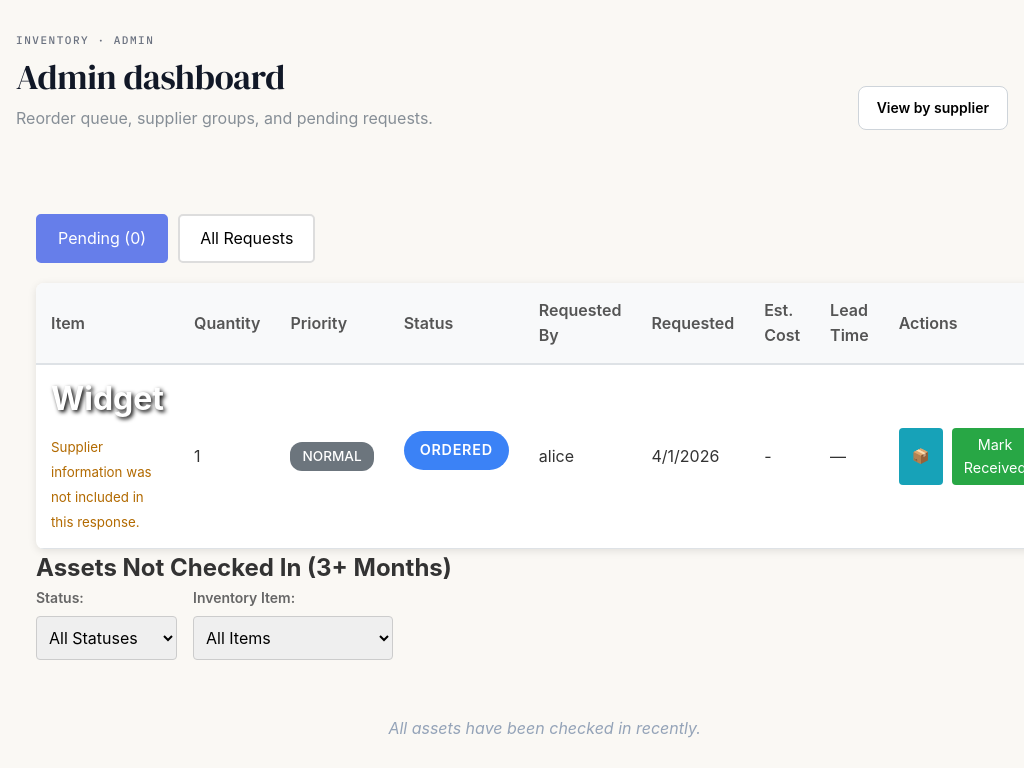
it: AdminDashboard — update tracking flow › opens a multi-field modal and posts the consolidated tracking fields
Click the button titled "Update Tracking". click: (921, 457)
box: left=899, top=428, right=943, bottom=485
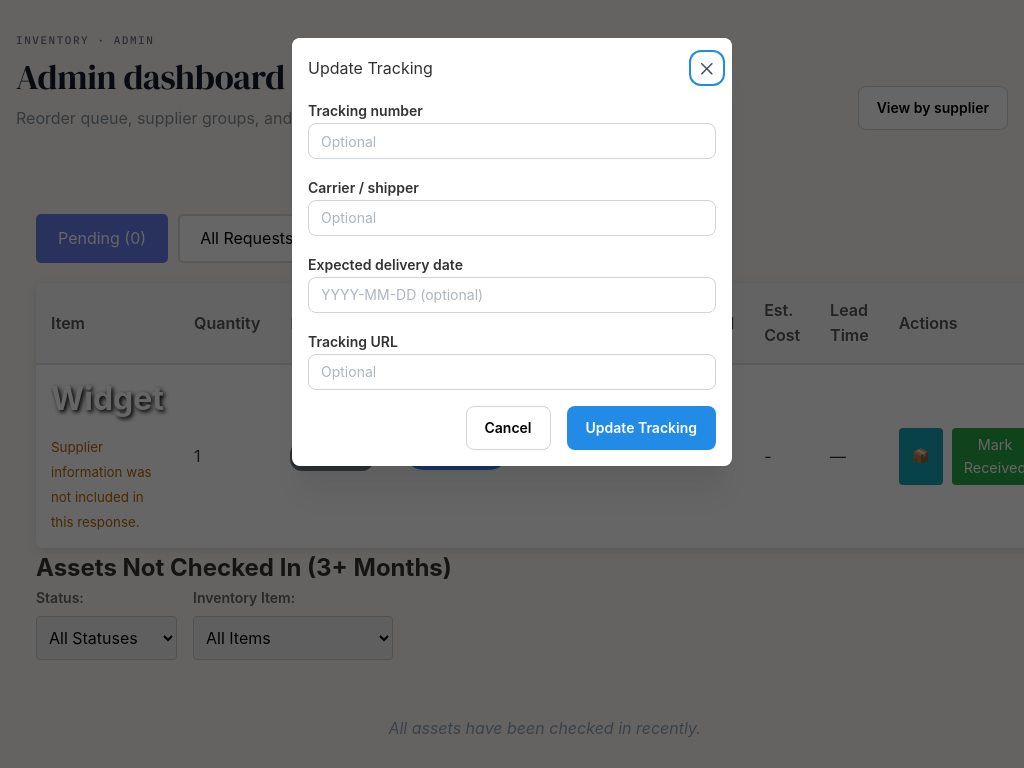
Type "TRK-1" into the field labelled "Tracking number". click: (512, 141)
box: left=308, top=123, right=716, bottom=159
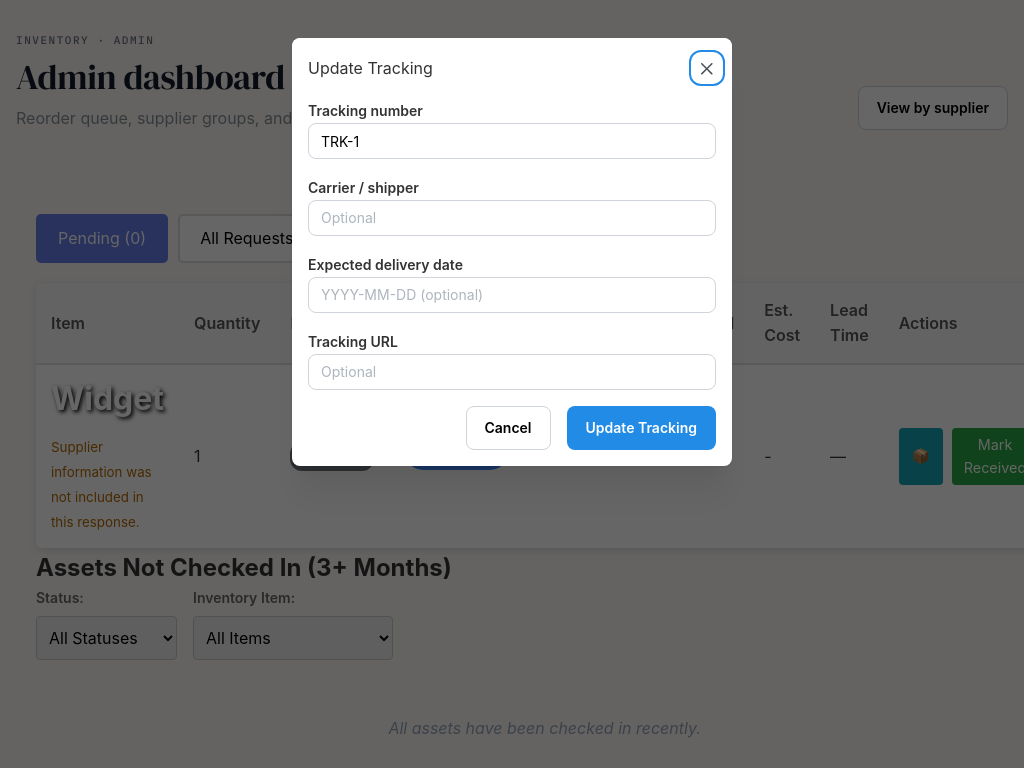
Type "UPS" into the field labelled "Carrier / shipper". click: (512, 218)
box: left=308, top=200, right=716, bottom=236
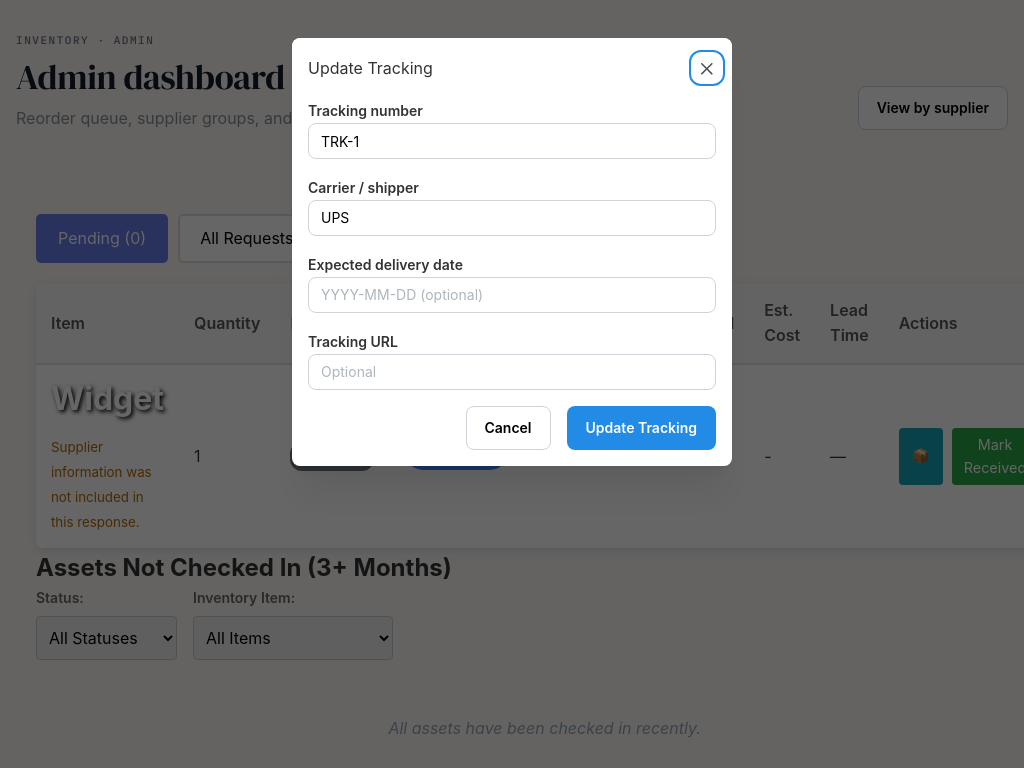
Type "2026-05-10" into the field labelled "Expected delivery date". click: (512, 295)
box: left=308, top=277, right=716, bottom=313
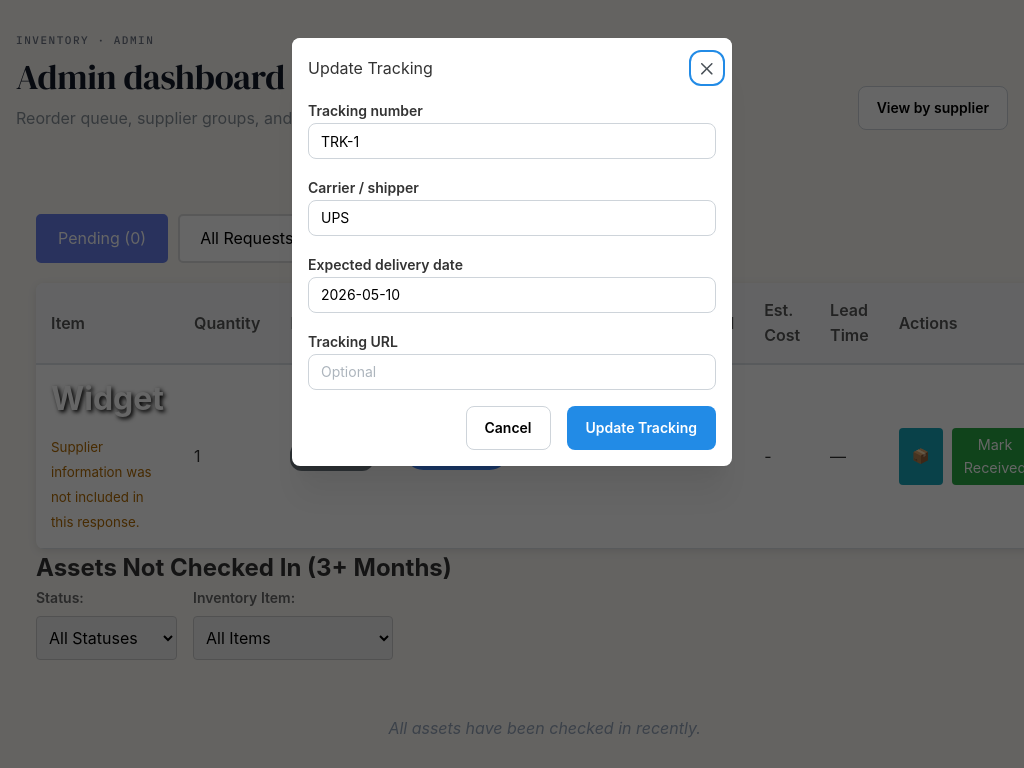
Type "https://ups.example/TRK-1" into the field labelled "Tracking URL". click: (512, 372)
box: left=308, top=354, right=716, bottom=390
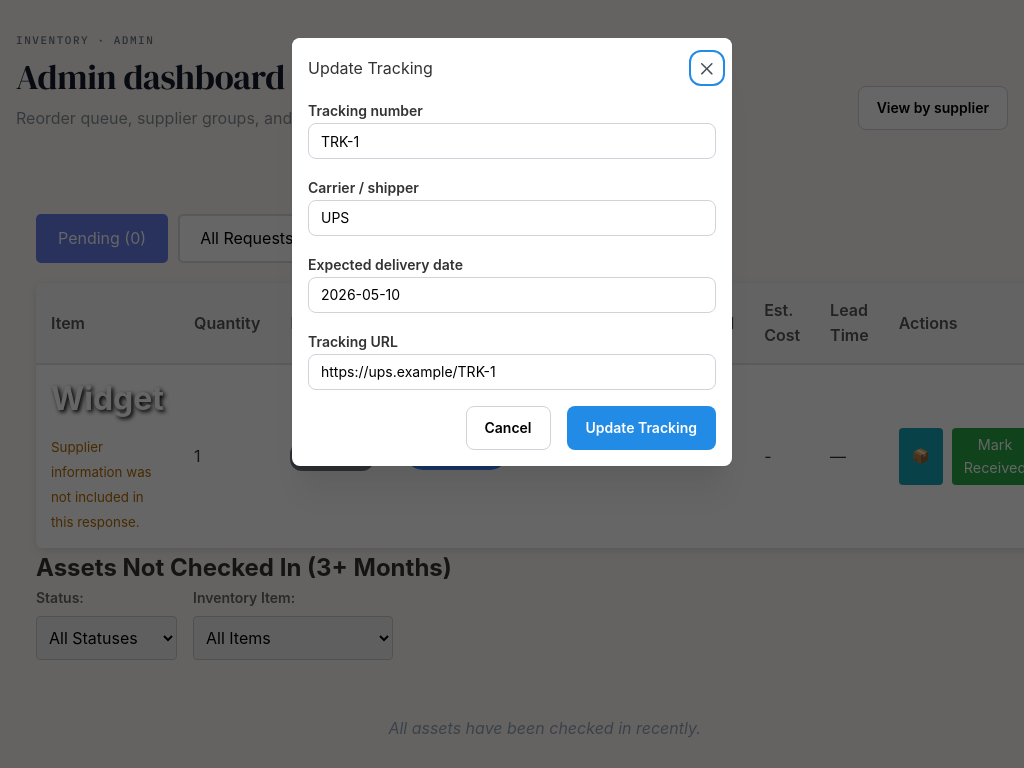
Click the button "Update Tracking". click: (641, 428)
box: left=566, top=406, right=716, bottom=450
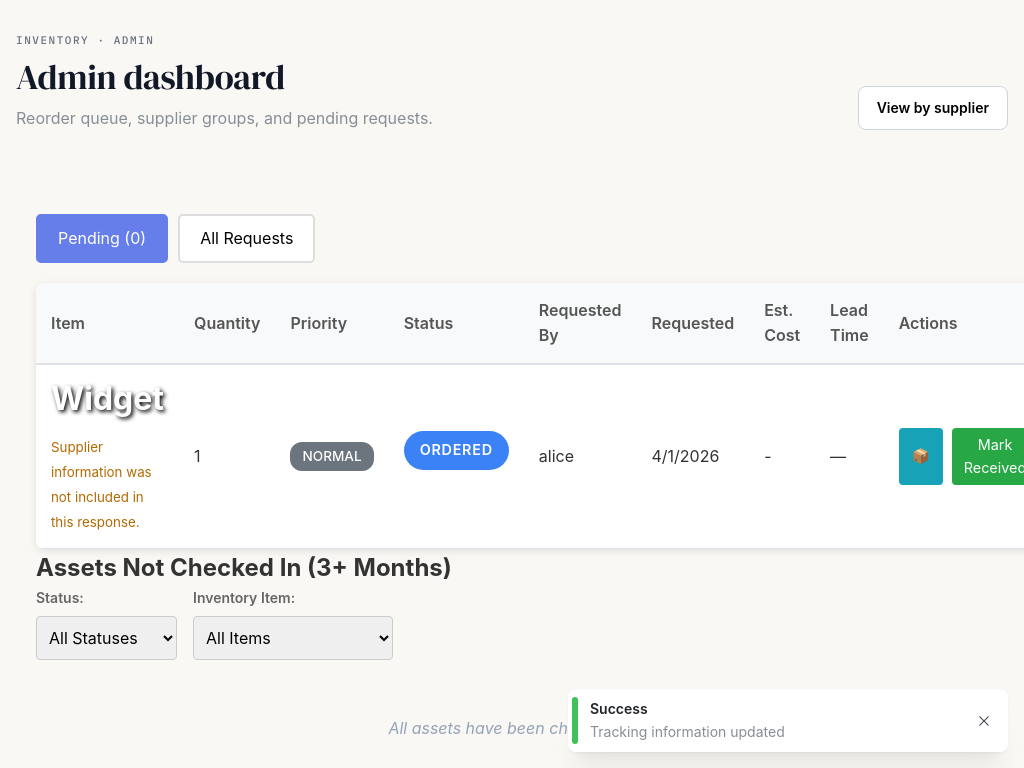
Result: the text "Tracking information updated" is shown at left=590, top=723, right=785, bottom=740
